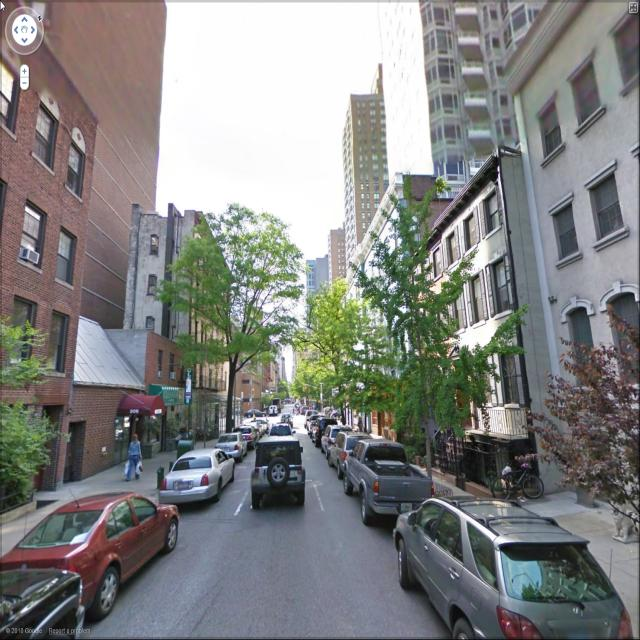b_1: (422, 1, 561, 166), (341, 78, 400, 262), (303, 238, 335, 303), (331, 212, 354, 282)
b_2: (521, 22, 640, 493), (404, 187, 538, 482), (3, 13, 74, 482), (311, 183, 418, 438), (148, 208, 234, 425), (228, 311, 284, 416)
